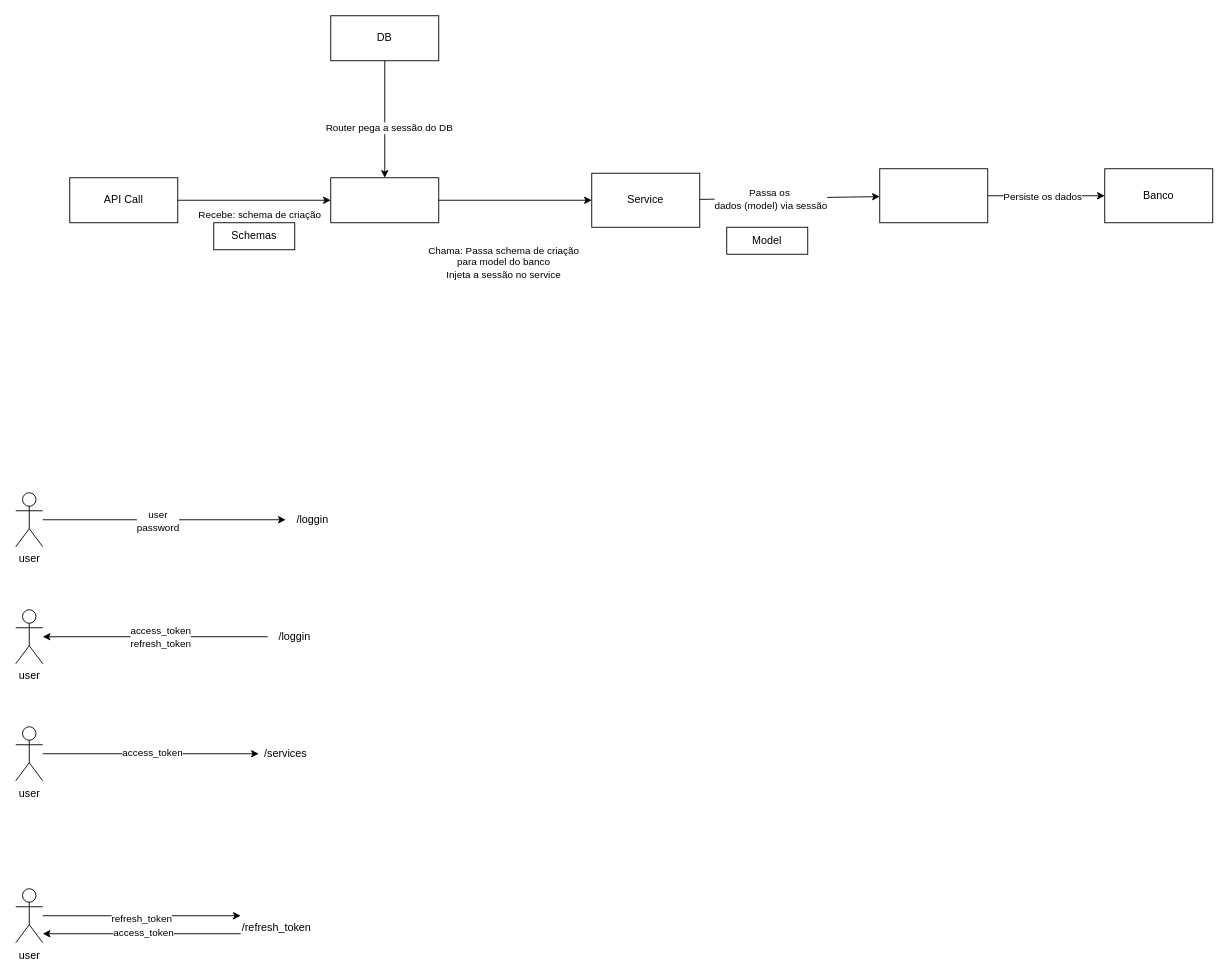
The diagram is 1229 pixels wide and 977 high, and some of its shapes have lost their labels. The centre of each missing label's shape, as x and y in pixels:
DB: Sessão: the point at 933,195
Router: the point at 384,200
